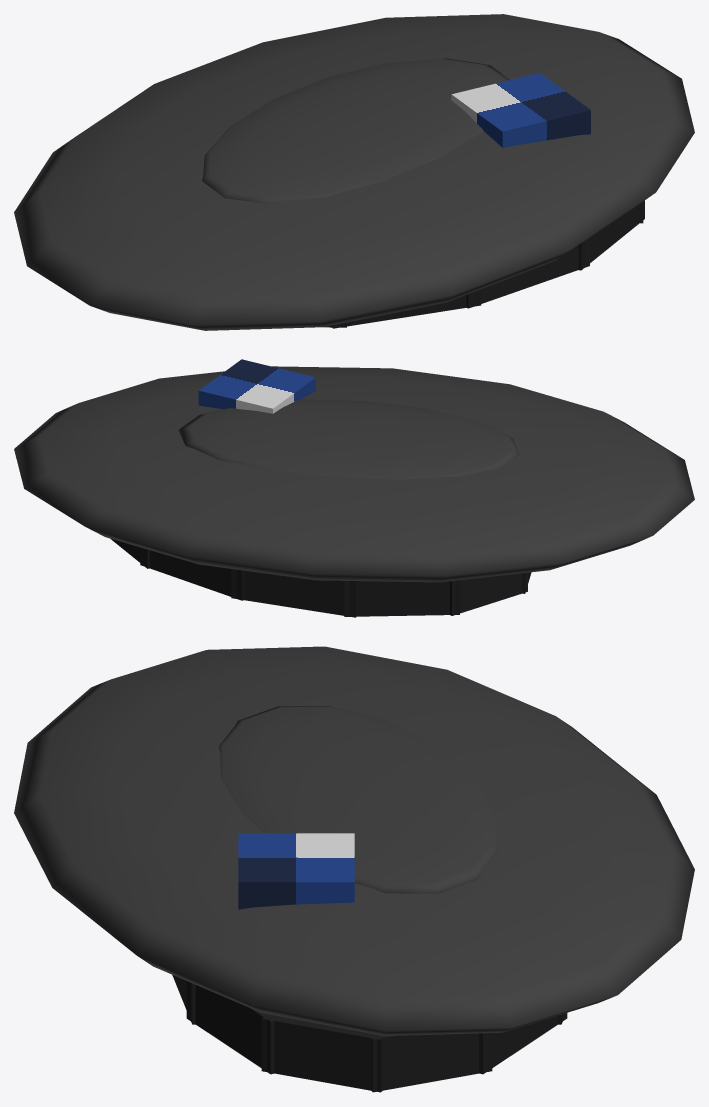
The model's file is CMU3DAU14USASFSECFORBeretWorldCloud.glb.
The picture shows the model from 3 angles, top to bottom: view 1: azimuth 30°, elevation 25°; view 2: azimuth 150°, elevation 25°; view 3: azimuth 270°, elevation 25°; orthographic projection. The views are drawn at different scales.
Parts seen in each view (by area): view 1: continuous slumped felt crown, subtle broad upper cloth fold, original red blue beret badge, open underside felt band facet 09, open underside felt band facet 10, open underside felt band facet 08; view 2: continuous slumped felt crown, subtle broad upper cloth fold, original red blue beret badge, open underside felt band facet 03, open underside felt band facet 04, open underside felt band facet 02, open underside felt band facet 05; view 3: continuous slumped felt crown, subtle broad upper cloth fold, original red blue beret badge, open underside felt band facet 11, open underside felt band facet 00, open underside felt band facet 10, open underside felt band facet 01.
Boxes of the visible parts, x1,y1,x2,y2 form: continuous slumped felt crown: (14,14,694,330); subtle broad upper cloth fold: (202,58,509,204); original red blue beret badge: (451,73,590,147); open underside felt band facet 09: (466,237,589,308); open underside felt band facet 10: (578,200,644,270); open underside felt band facet 08: (332,289,481,328); continuous slumped felt crown: (14,366,694,582); subtle broad upper cloth fold: (178,399,519,479); original red blue beret badge: (198,359,315,413); open underside felt band facet 03: (231,569,356,617); open underside felt band facet 04: (344,580,459,616); open underside felt band facet 02: (140,547,243,600); open underside felt band facet 05: (450,572,527,615); continuous slumped felt crown: (14,646,694,1035); subtle broad upper cloth fold: (218,706,498,893); original red blue beret badge: (238,833,354,909); open underside felt band facet 11: (261,1017,384,1092); open underside felt band facet 00: (366,1032,492,1092); open underside felt band facet 10: (186,981,285,1074); open underside felt band facet 01: (479,1013,567,1074).
Size of the model in its own units: 0.4791 by 0.091 by 0.3639.
Materials: 3 (1 with a texture image).
